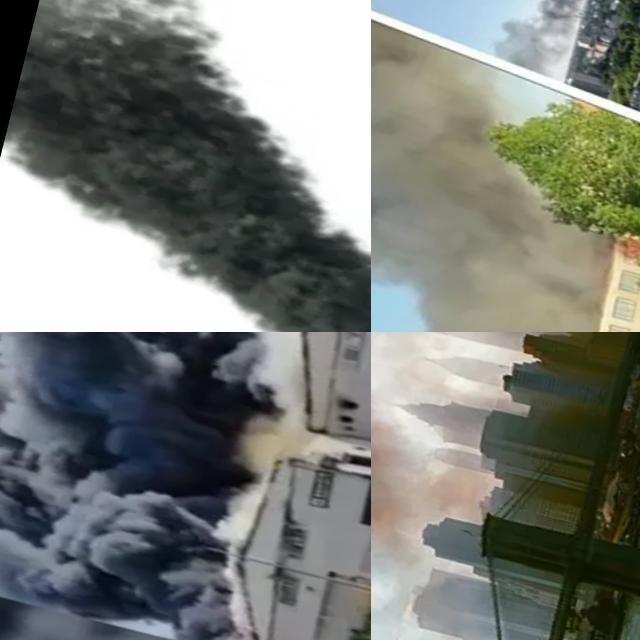smoke: (0, 0, 371, 332), (0, 332, 302, 640), (371, 16, 640, 332), (371, 332, 607, 640), (496, 0, 598, 70)
